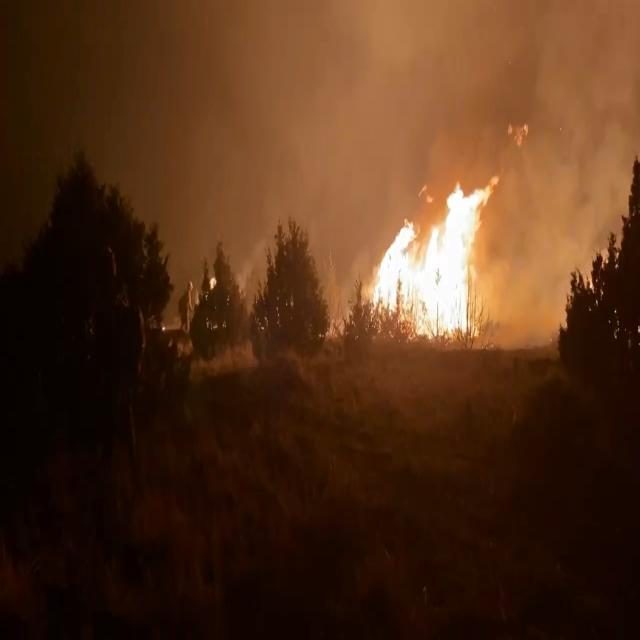Fire: (360, 161, 498, 349)
